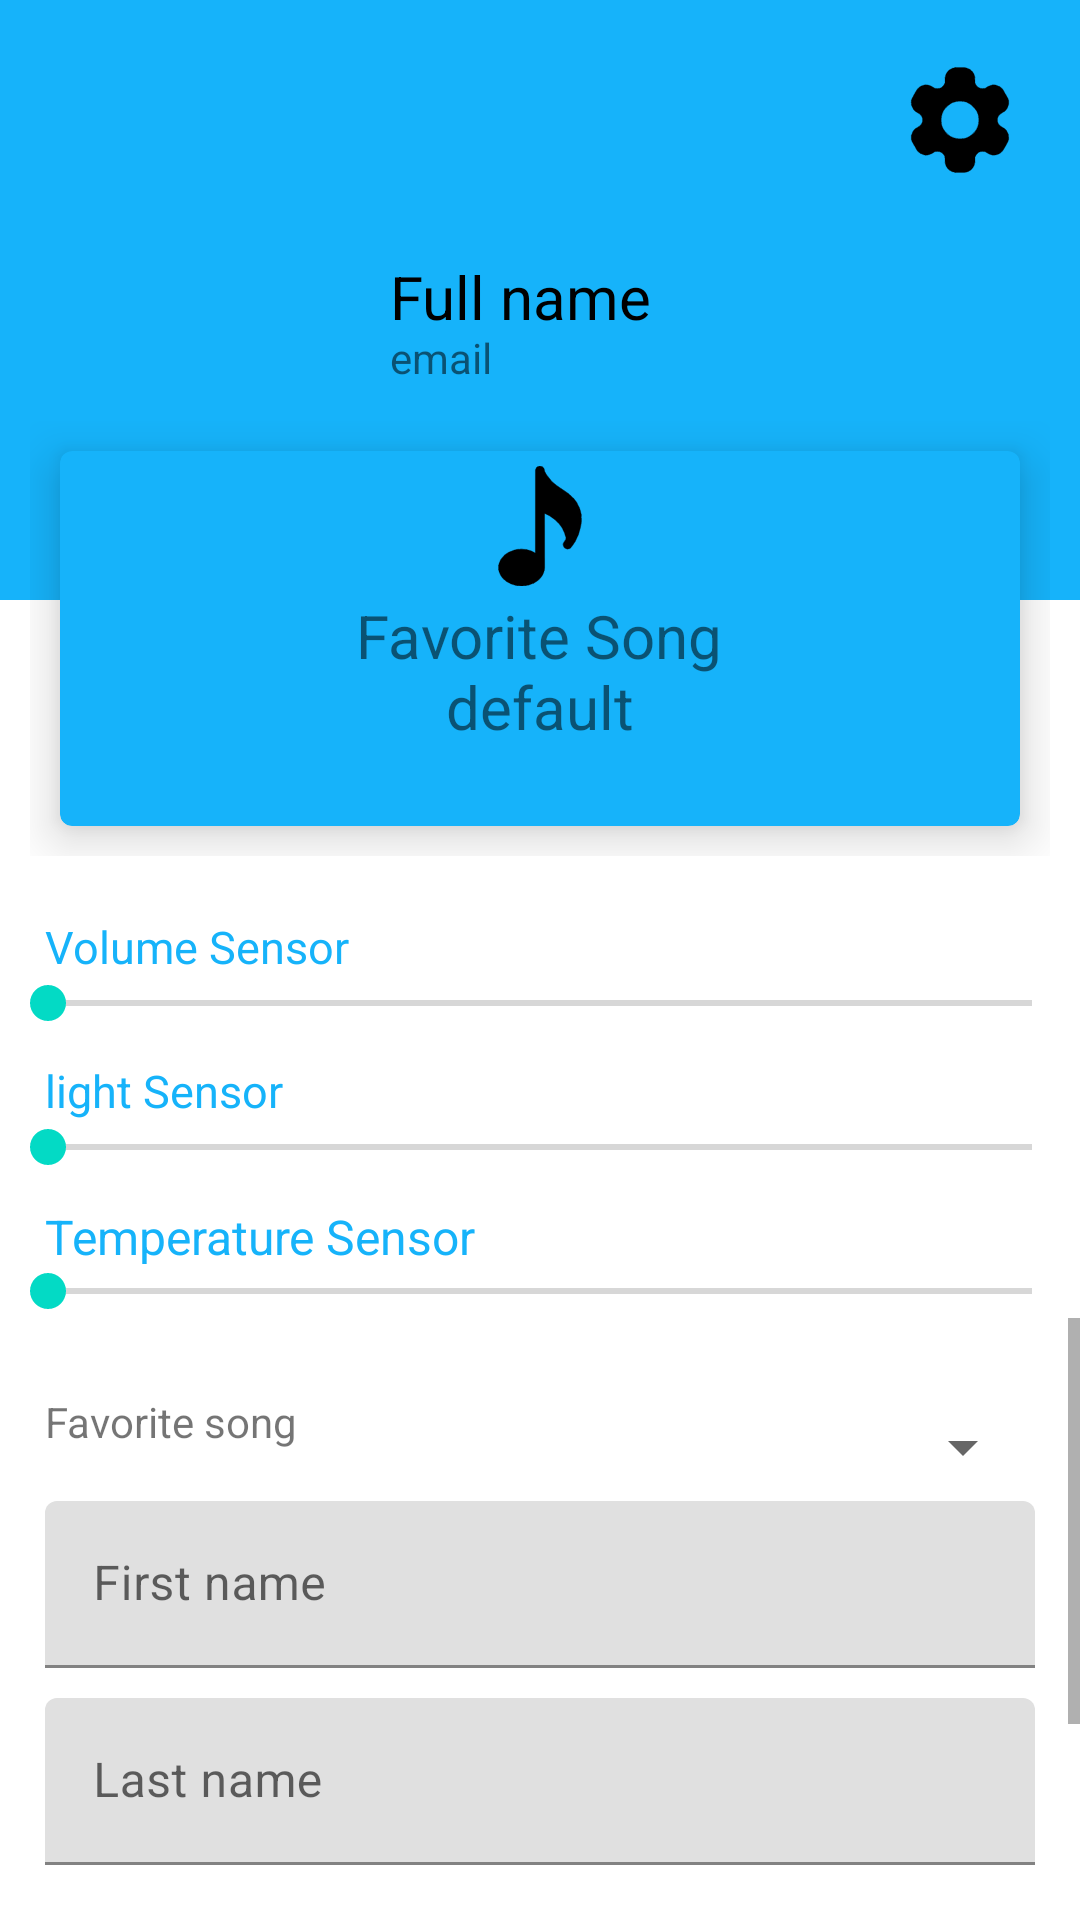

Named icons in this screenshot (1080*1920) and their centers, [x,y]:
musicicon: [540,526]
settingicon: [959,120]
